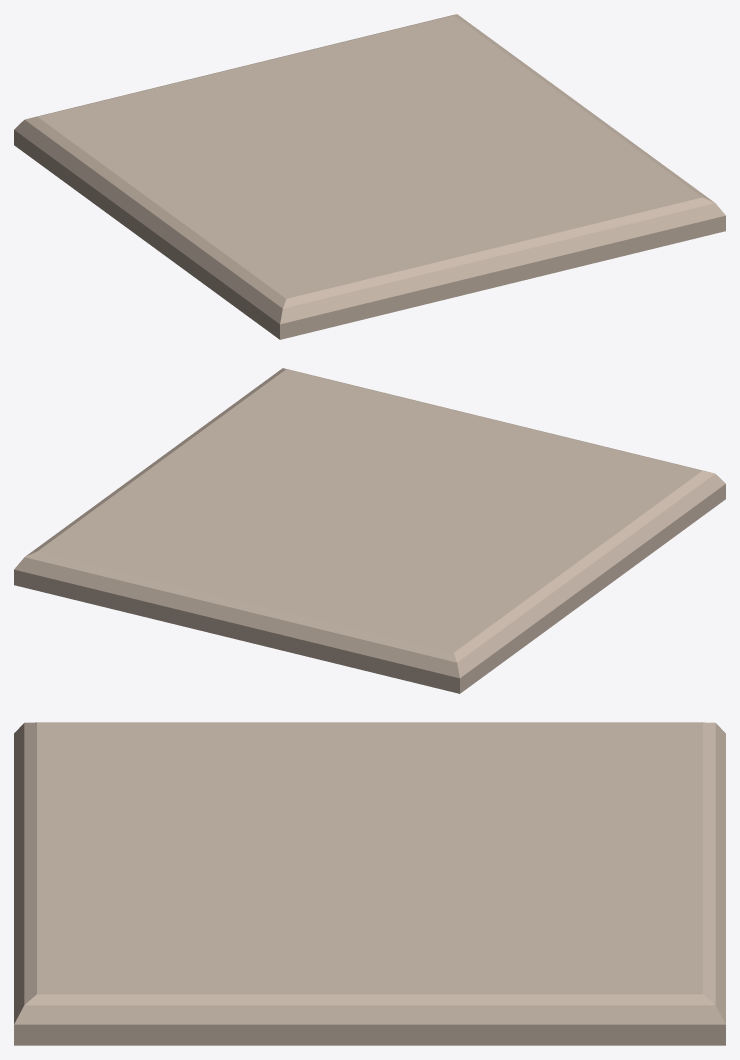
Rendered from greek_floor_stone_3.fbx.
The picture shows the model from 3 angles, top to bottom: view 1: azimuth 30°, elevation 25°; view 2: azimuth 150°, elevation 25°; view 3: azimuth 270°, elevation 25°; orthographic projection. The views are drawn at different scales.
Parts seen in each view (by area): view 1: Cube.059; view 2: Cube.059; view 3: Cube.059.
Boxes of the visible parts, <box> form: Cube.059: <box>14,14,725,339</box>; Cube.059: <box>14,368,725,693</box>; Cube.059: <box>14,722,725,1045</box>.
Bounding box in the file's own units: 300 × 20 × 310.
